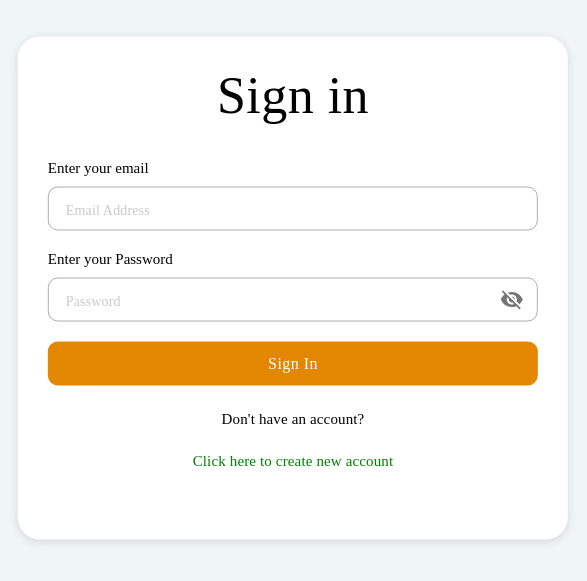
Scenario: Login › should display error message if email and password do not match
Note: Fill in the form with invalid user details
In the field with test id "email-input": (293, 208) [48, 186, 538, 230], type "testue@example.com"
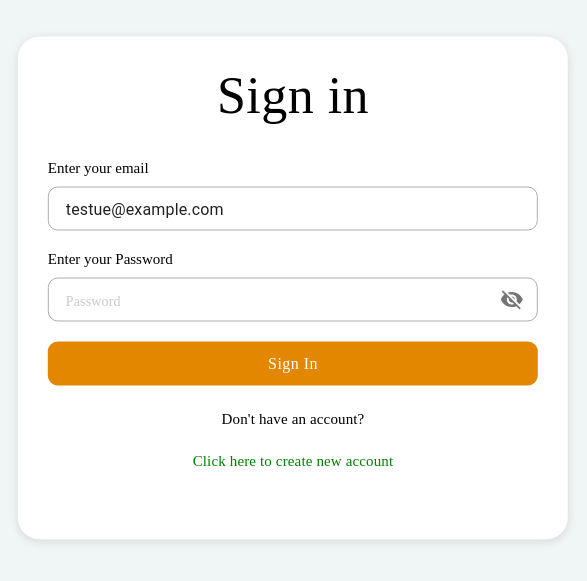
In the password field with test id "password-input": (270, 300) [48, 278, 492, 322], type "InvalidPassword"
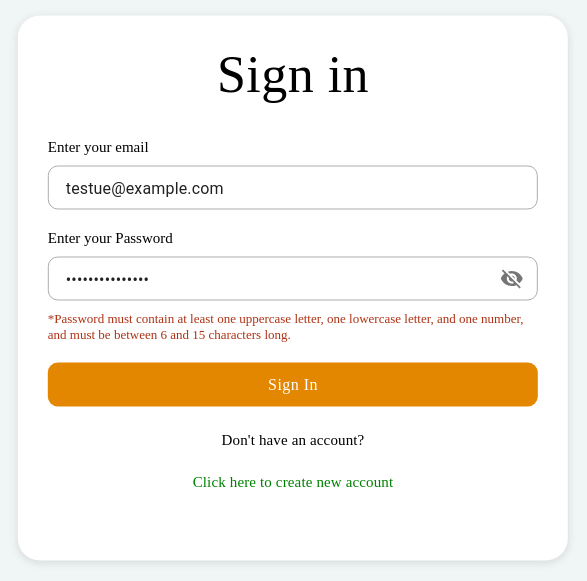
Note: Submit the form
Submit the form from the button with test id "submit-button", box [48, 362, 538, 406]
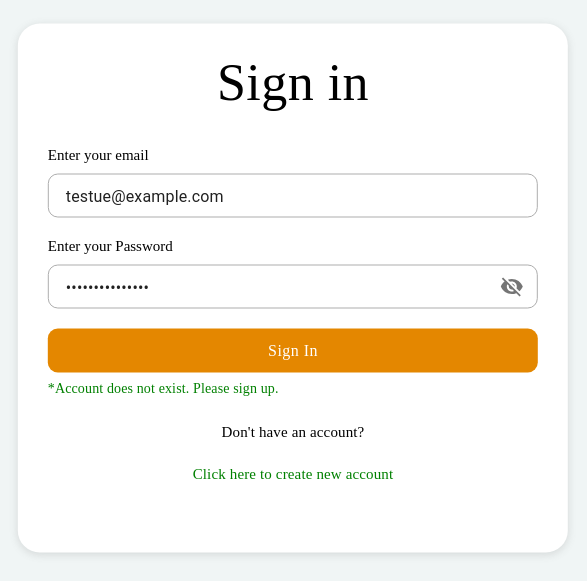
Now the text "*Account does not exist. Please sign up." is shown, box [48, 380, 279, 396]
